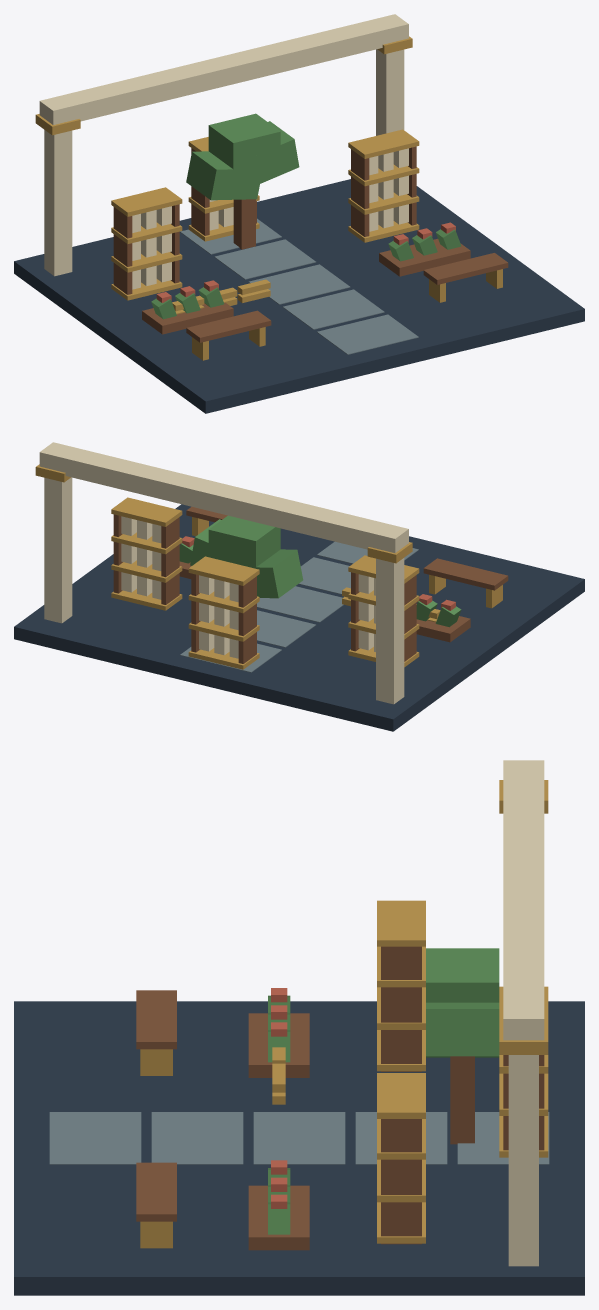
The model's file is dismantle.glb.
3 renders of one model, top to bottom at view 1: azimuth 30°, elevation 25°; view 2: azimuth 150°, elevation 25°; view 3: azimuth 270°, elevation 25°, orthographic. The views are drawn at different scales.
Parts seen in each view (by area): view 1: dismantle; view 2: dismantle; view 3: dismantle.
Part boxes in pixels (box(x1,y1,x2,y2)): dismantle: box(14, 14, 584, 413); dismantle: box(14, 442, 584, 731); dismantle: box(14, 760, 584, 1295).
Size of the model in its own units: 32 by 14.5 by 28.
